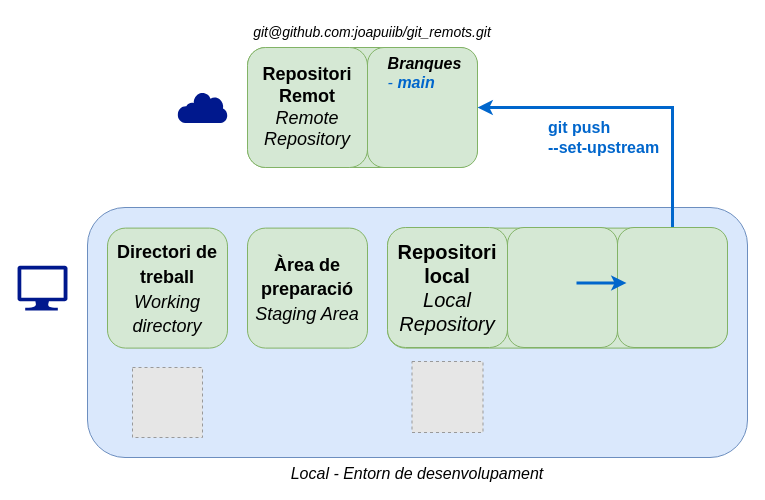
This 765x500 diagram has some shape labels left out. Grey dashed boxes stand in for pictures. The shapes that lost their labels are listed below. From the top down, each one's centre as x and y in pixels, then its label:
(x=562, y=287): Branques locals - main
(x=672, y=287): Branques remotes - origin/main
